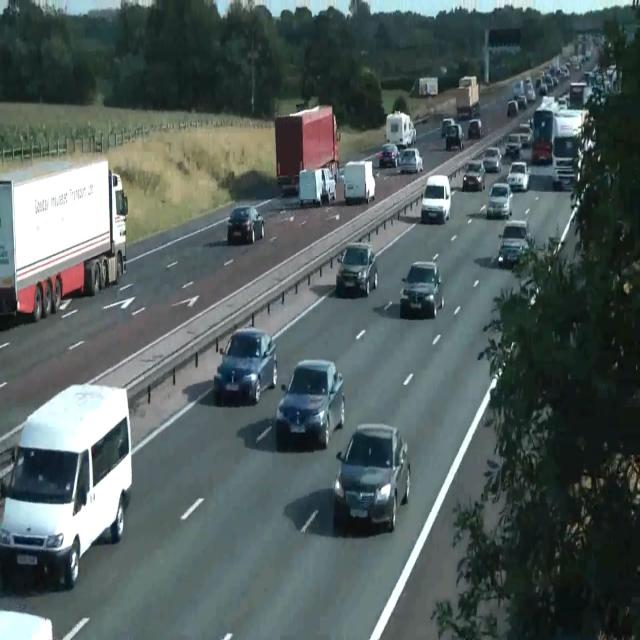bus: (333, 422, 410, 532), (275, 358, 345, 448), (213, 326, 277, 404), (399, 261, 443, 319), (336, 241, 378, 297), (0, 609, 53, 639), (227, 206, 265, 244), (486, 182, 512, 220), (462, 160, 486, 192), (519, 275, 540, 302), (482, 146, 502, 172), (378, 143, 399, 167), (504, 133, 522, 155), (519, 122, 532, 146), (468, 118, 482, 140), (440, 117, 454, 137), (335, 165, 345, 182), (517, 94, 527, 110)
jeep: (1, 382, 132, 590), (497, 218, 532, 268), (551, 134, 579, 188), (421, 173, 451, 223), (506, 160, 530, 191), (398, 147, 424, 173), (444, 123, 464, 150)
minibus: (0, 158, 128, 322), (274, 103, 340, 196), (298, 167, 336, 207), (344, 160, 376, 204), (386, 110, 416, 148), (456, 75, 480, 119), (418, 76, 438, 97)
